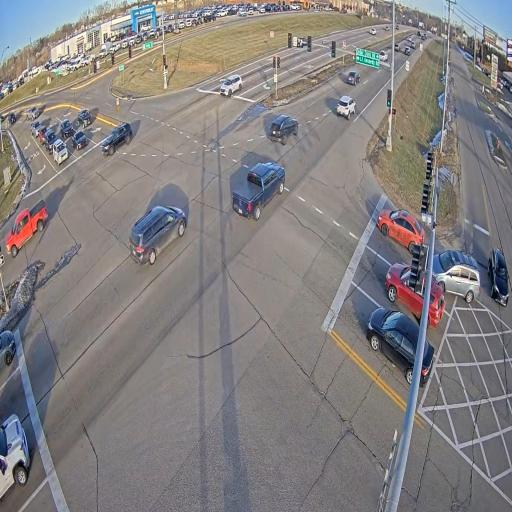pickup: (232, 162, 285, 220), (0, 414, 29, 500), (6, 199, 47, 257), (26, 106, 40, 120), (31, 120, 42, 137), (380, 50, 388, 60), (394, 43, 401, 51)
sedan: (366, 307, 419, 384), (377, 210, 425, 253), (419, 339, 434, 387), (0, 329, 15, 368), (72, 131, 87, 150), (347, 70, 360, 85), (370, 27, 376, 35)
suv: (129, 205, 188, 265), (129, 205, 187, 265), (233, 163, 285, 220), (433, 249, 480, 302), (385, 263, 426, 320), (487, 247, 509, 306), (102, 122, 132, 155), (427, 277, 445, 328), (269, 115, 298, 145), (220, 74, 242, 97), (337, 95, 356, 120), (53, 138, 69, 165), (45, 129, 58, 153), (78, 109, 93, 128), (60, 119, 74, 139), (39, 125, 48, 145), (297, 37, 307, 47), (8, 112, 16, 124), (407, 36, 415, 48), (405, 46, 410, 54), (422, 34, 426, 40), (384, 26, 389, 30), (395, 25, 399, 29)
